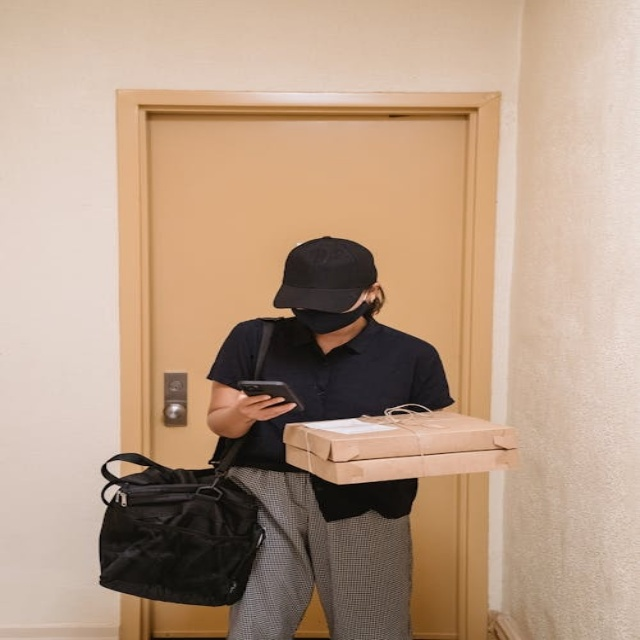Mascara: (288, 296, 372, 334)
Sin_guantes: (232, 391, 298, 422)
